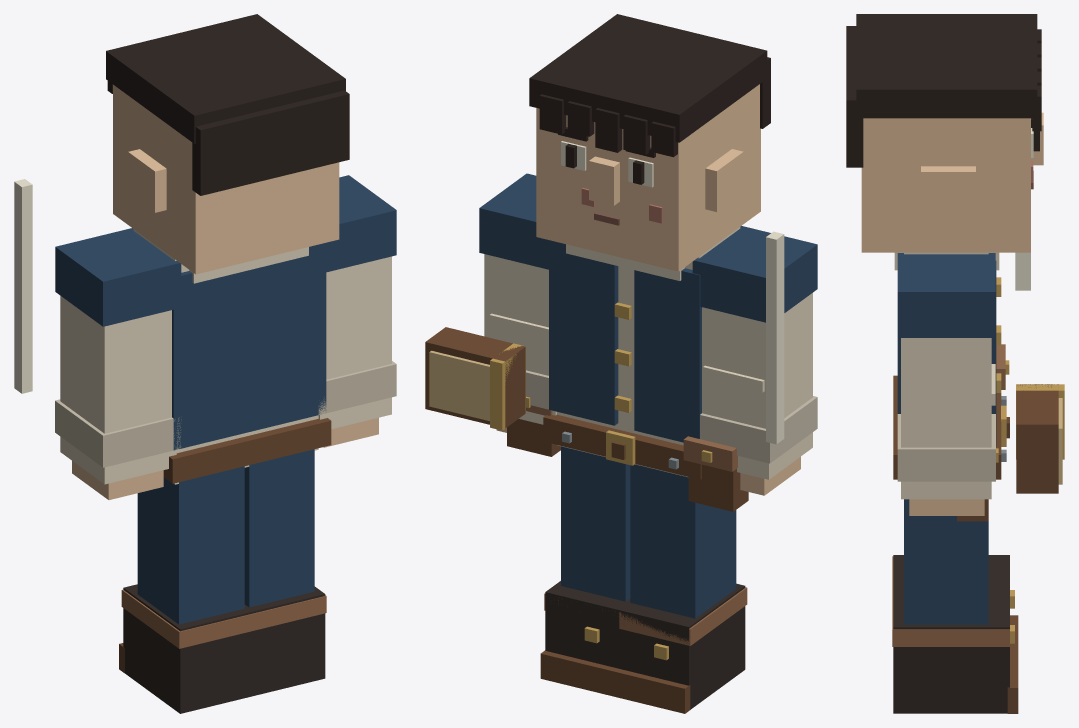
Rendered from scribe.obj.
3 renders of one model, left to right at view 1: azimuth 30°, elevation 25°; view 2: azimuth 150°, elevation 25°; view 3: azimuth 270°, elevation 25°, orthographic. The views are drawn at different scales.
Visible parts, largest first — view 1: head, body, right_arm, right_leg, left_leg, left_arm, equipment_right; view 2: head, body, right_leg, right_arm, left_leg, left_arm, equipment_left, equipment_right; view 3: head, left_arm, left_leg, equipment_left, body, right_leg, equipment_right.
Part boxes in pixels (left/top/right/bottom): head: left=106, top=14, right=349, bottom=274; body: left=133, top=229, right=331, bottom=484; right_arm: left=55, top=228, right=181, bottom=499; right_leg: left=119, top=466, right=256, bottom=713; left_leg: left=244, top=449, right=326, bottom=695; left_arm: left=318, top=175, right=396, bottom=447; equipment_right: left=14, top=179, right=32, bottom=393; head: left=529, top=14, right=770, bottom=271; body: left=507, top=227, right=748, bottom=511; right_leg: left=610, top=464, right=747, bottom=713; right_arm: left=692, top=226, right=817, bottom=495; left_leg: left=540, top=446, right=630, bottom=695; left_arm: left=479, top=173, right=556, bottom=432; equipment_left: left=425, top=327, right=525, bottom=430; equipment_right: left=766, top=231, right=784, bottom=444; head: left=846, top=14, right=1043, bottom=252; left_arm: left=897, top=253, right=995, bottom=515; left_leg: left=892, top=499, right=1018, bottom=713; equipment_left: left=1016, top=384, right=1064, bottom=493; body: left=893, top=252, right=1009, bottom=521; right_leg: left=892, top=555, right=1018, bottom=652; equipment_right: left=1015, top=252, right=1030, bottom=290.
Bounding box in the file's own units: 1.19 × 2.04 × 0.6437.
